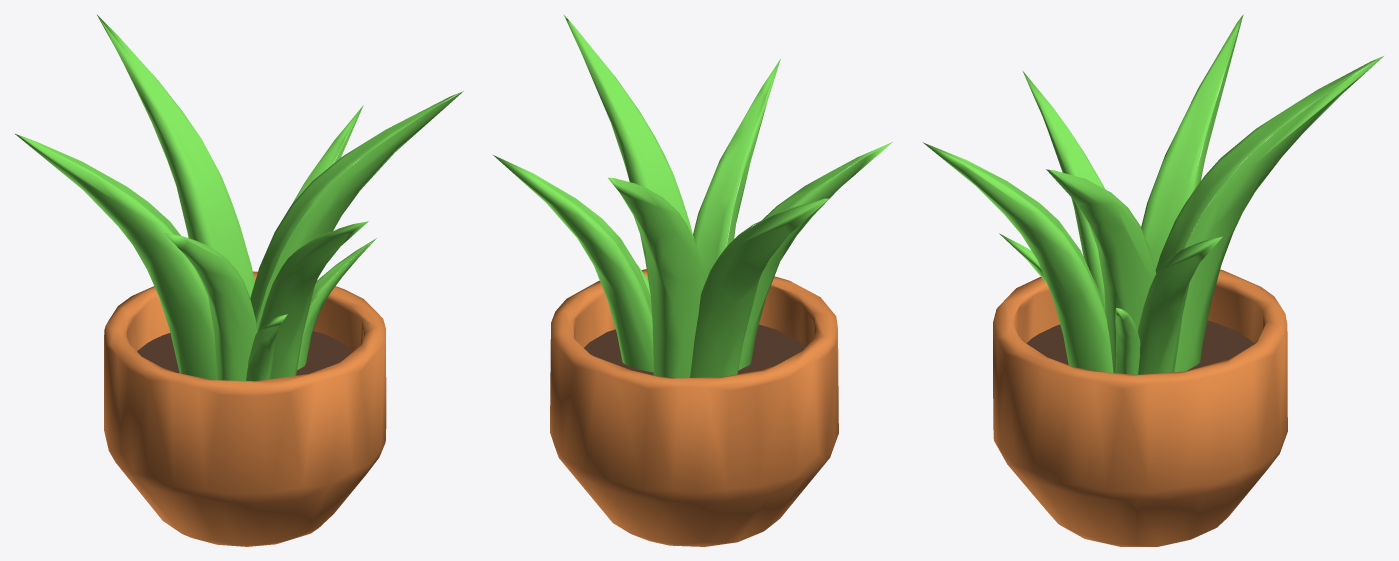
The model's file is houseplant.glb.
3 renders of one model, left to right at view 1: azimuth 30°, elevation 25°; view 2: azimuth 150°, elevation 25°; view 3: azimuth 270°, elevation 25°, orthographic. The views are drawn at different scales.
Parts seen in each view (by area): view 1: Plant; view 2: Plant; view 3: Plant.
Part boxes in pixels (x1,y1,x2,y2): Plant: (15,15,463,546); Plant: (493,14,892,546); Plant: (923,14,1383,546).
Size of what is drawn, in the model's own units: 1.03 by 1.17 by 1.11.
